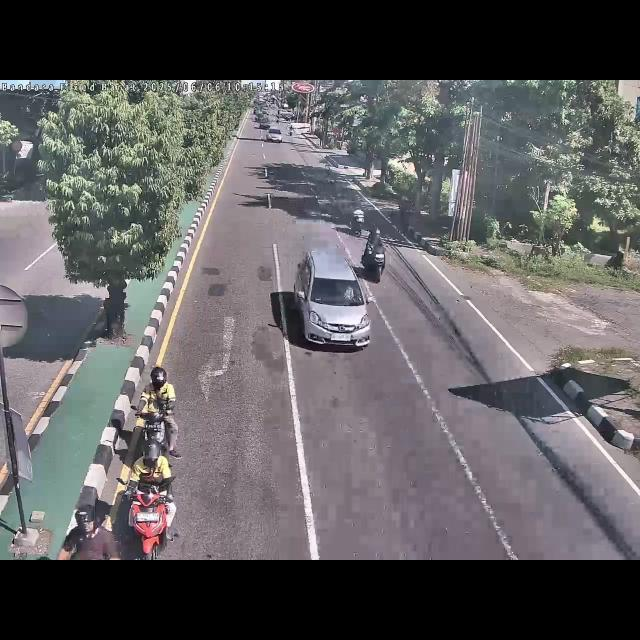Mobil: (286, 251, 376, 351)
Motor: (122, 440, 180, 560), (140, 360, 180, 468), (53, 500, 123, 560), (362, 221, 390, 283)
